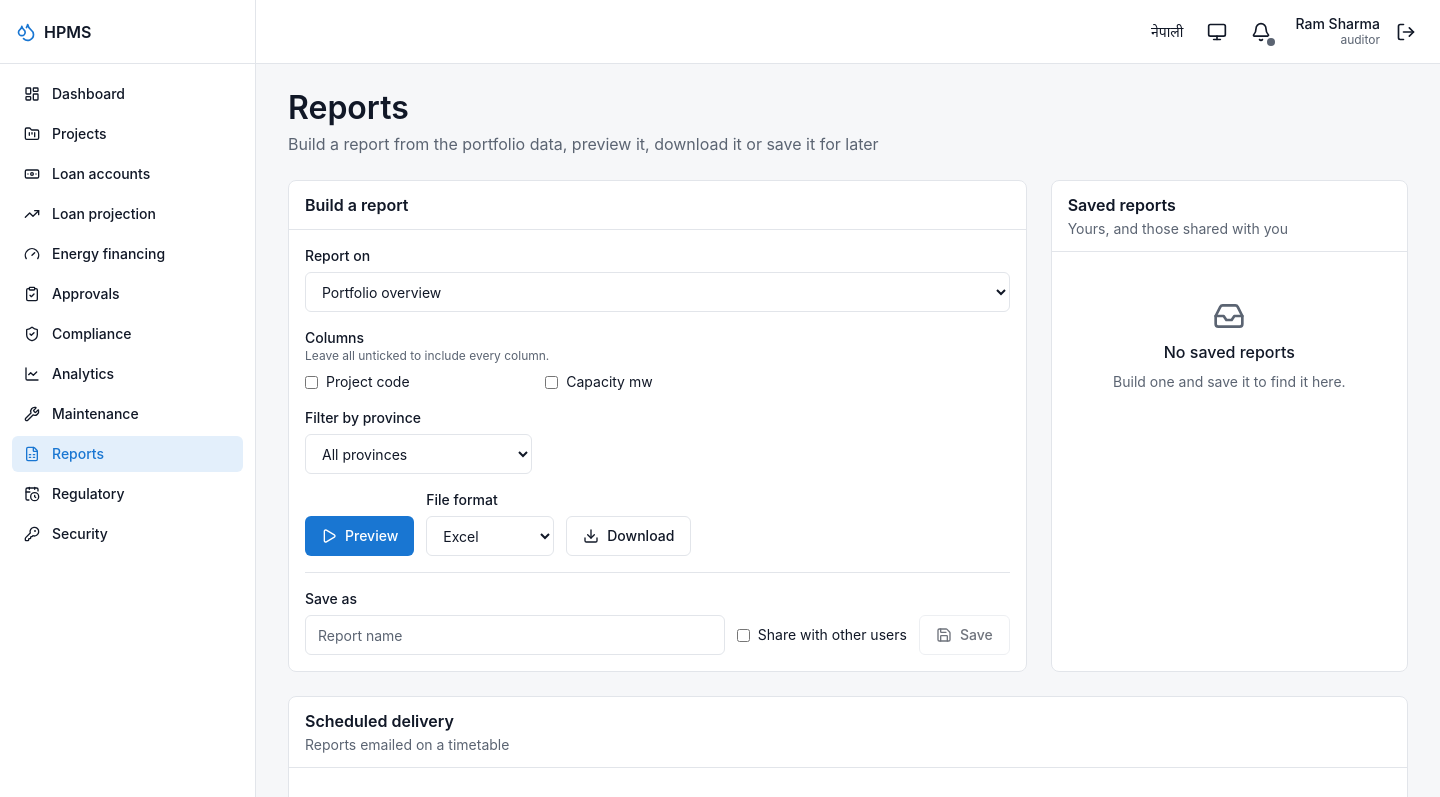
Test case: ReportsPage › sends the chosen columns and filters and previews what comes back
Click the checkbox labelled "Capacity mw": point(552, 382) [545,376,558,388]
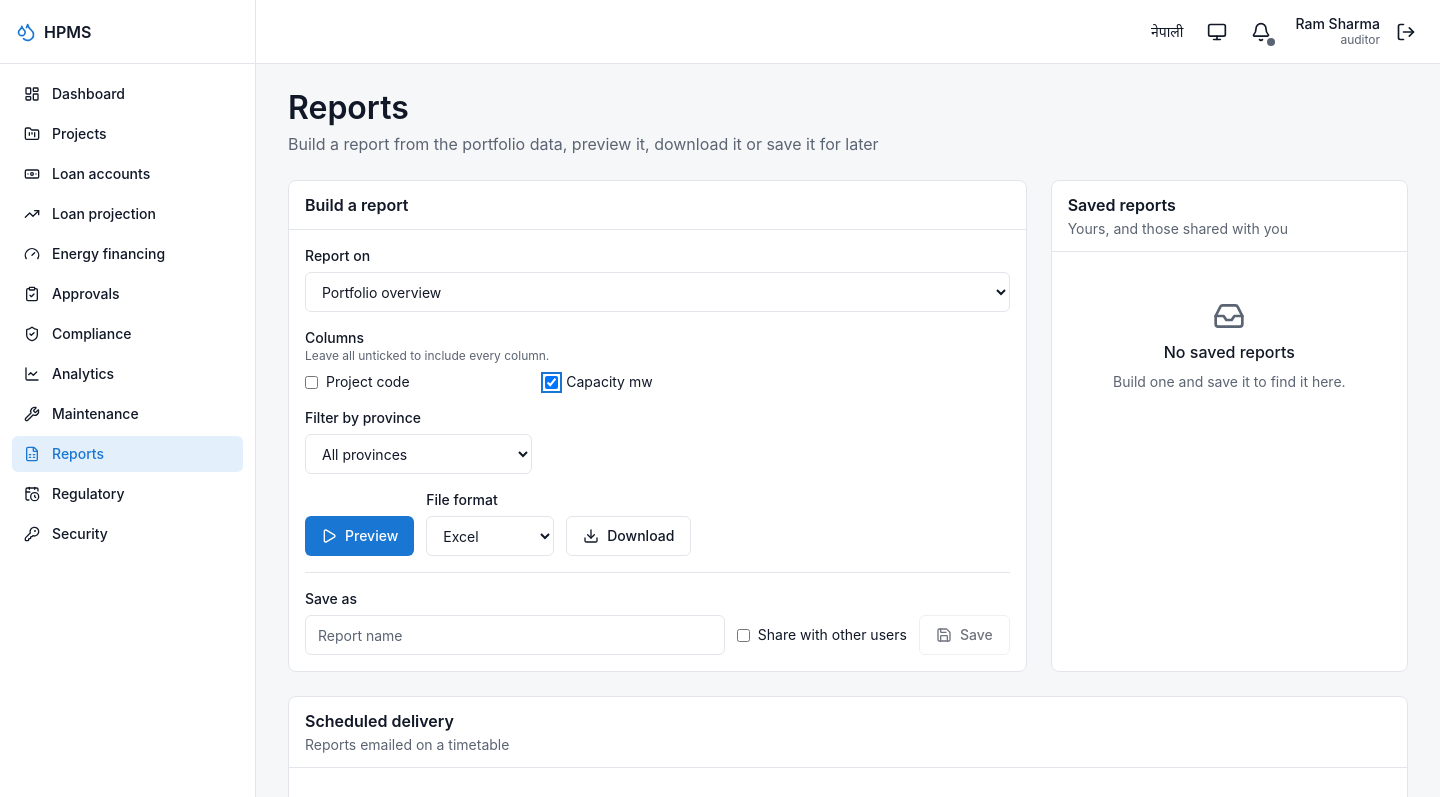
Select "Koshi" in the dropdown labelled "Filter by province": point(418, 454) [305,434,532,474]
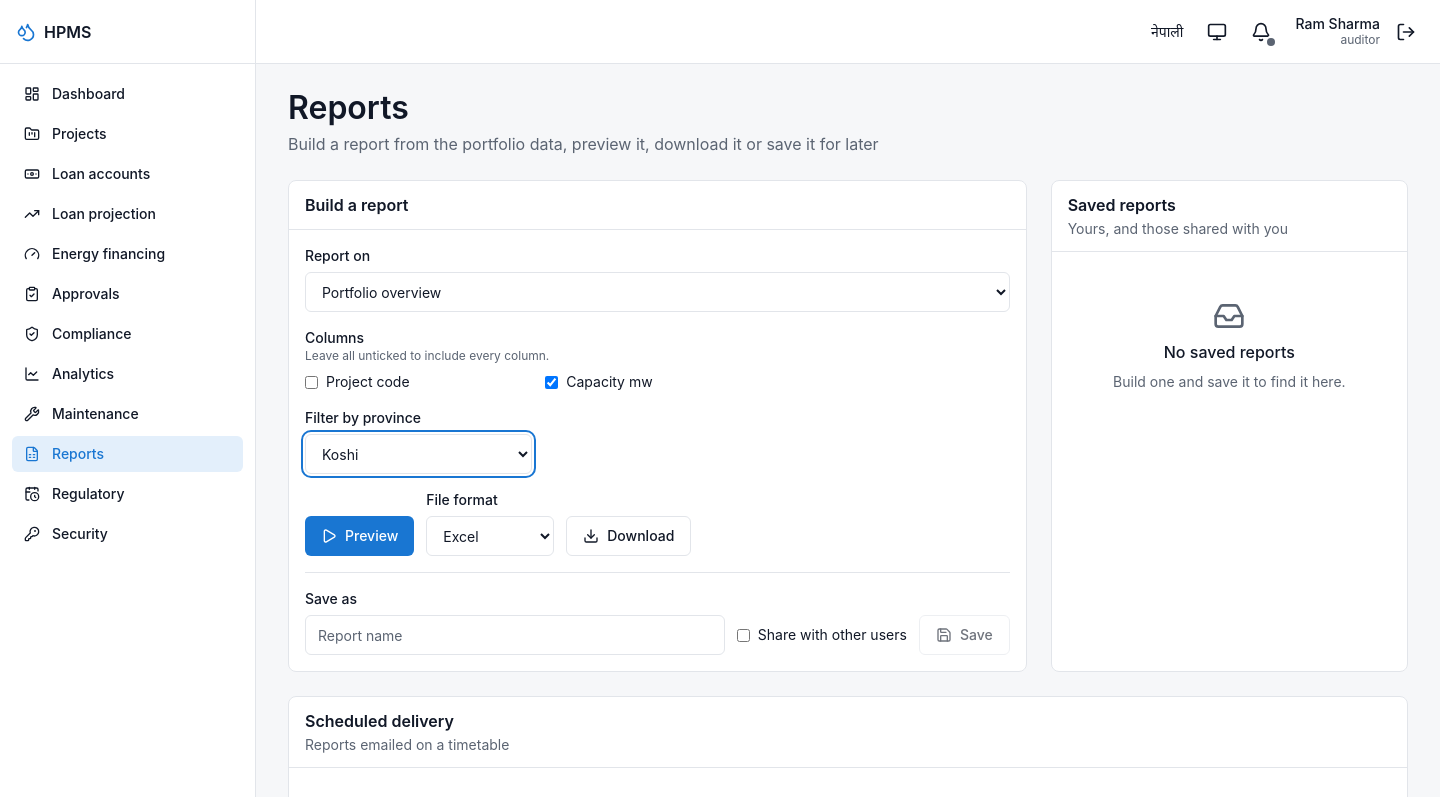
Click the button "Preview": point(360, 536) [305,516,414,556]
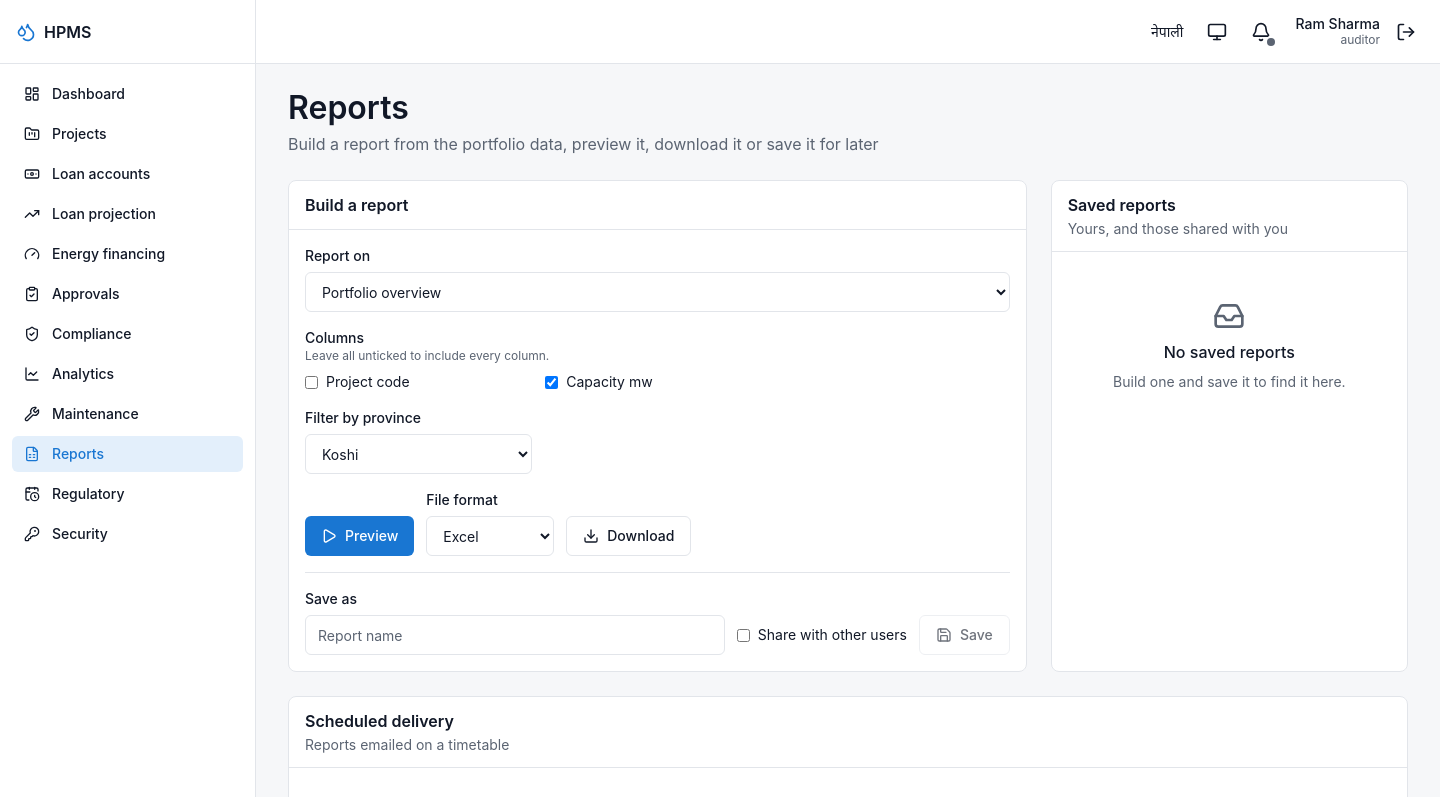
Check: the text "No saved reports" is shown, box [1164,340,1295,364]
A source without a province filter does not offer one
Select "Capex budget vs actual" in the dropdown labelled "Report on": point(657, 292) [305,272,1010,312]
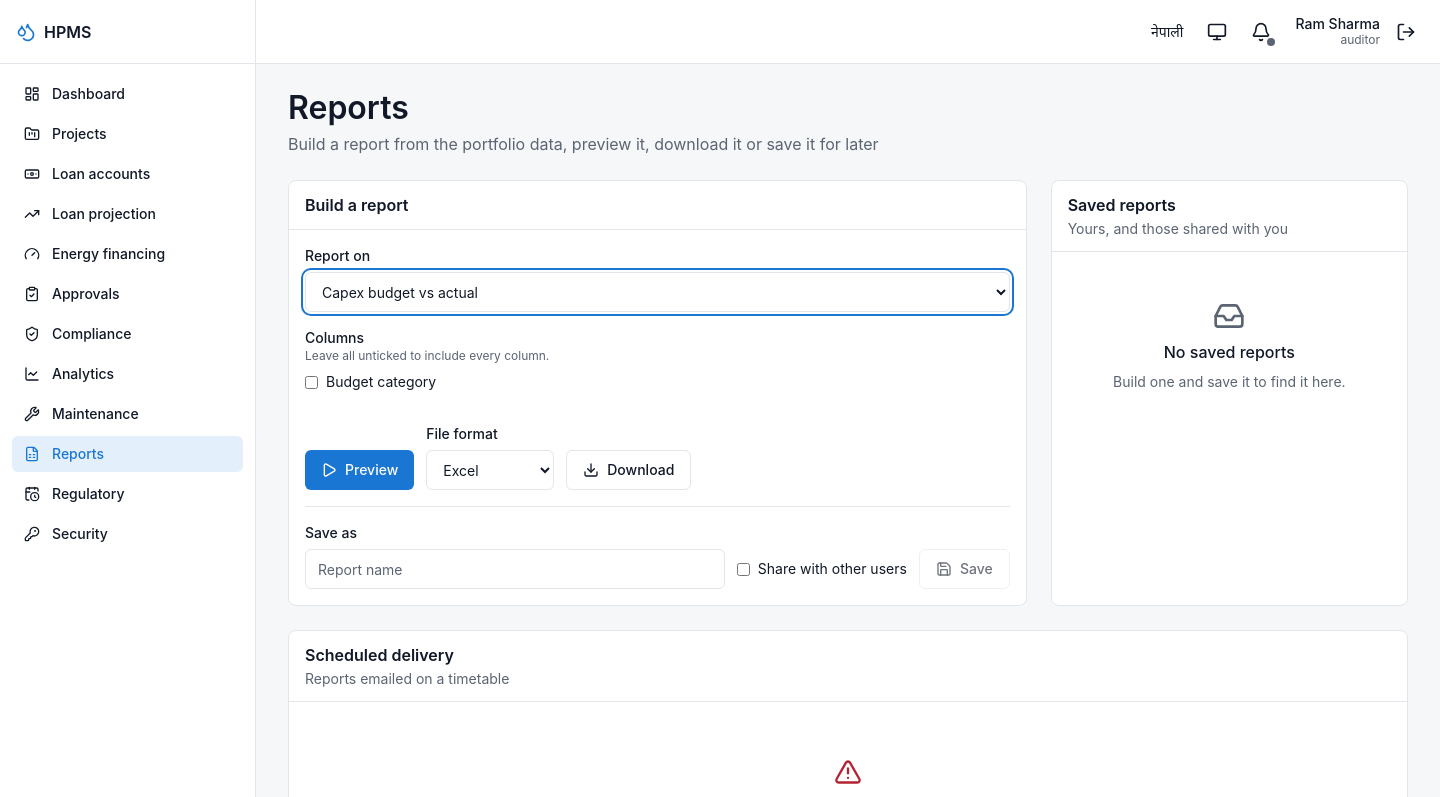
Check: the label labelled "Filter by province" is gone
